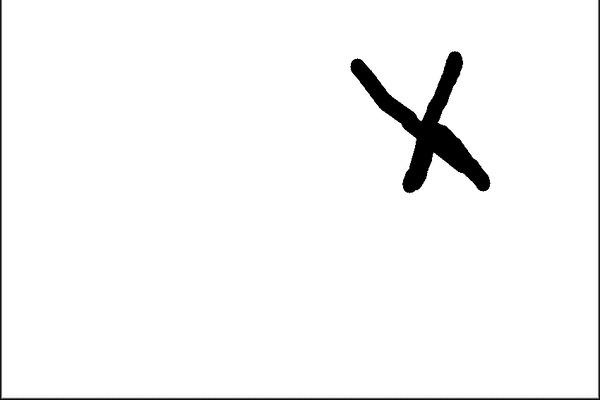X: (331, 41, 537, 204)
